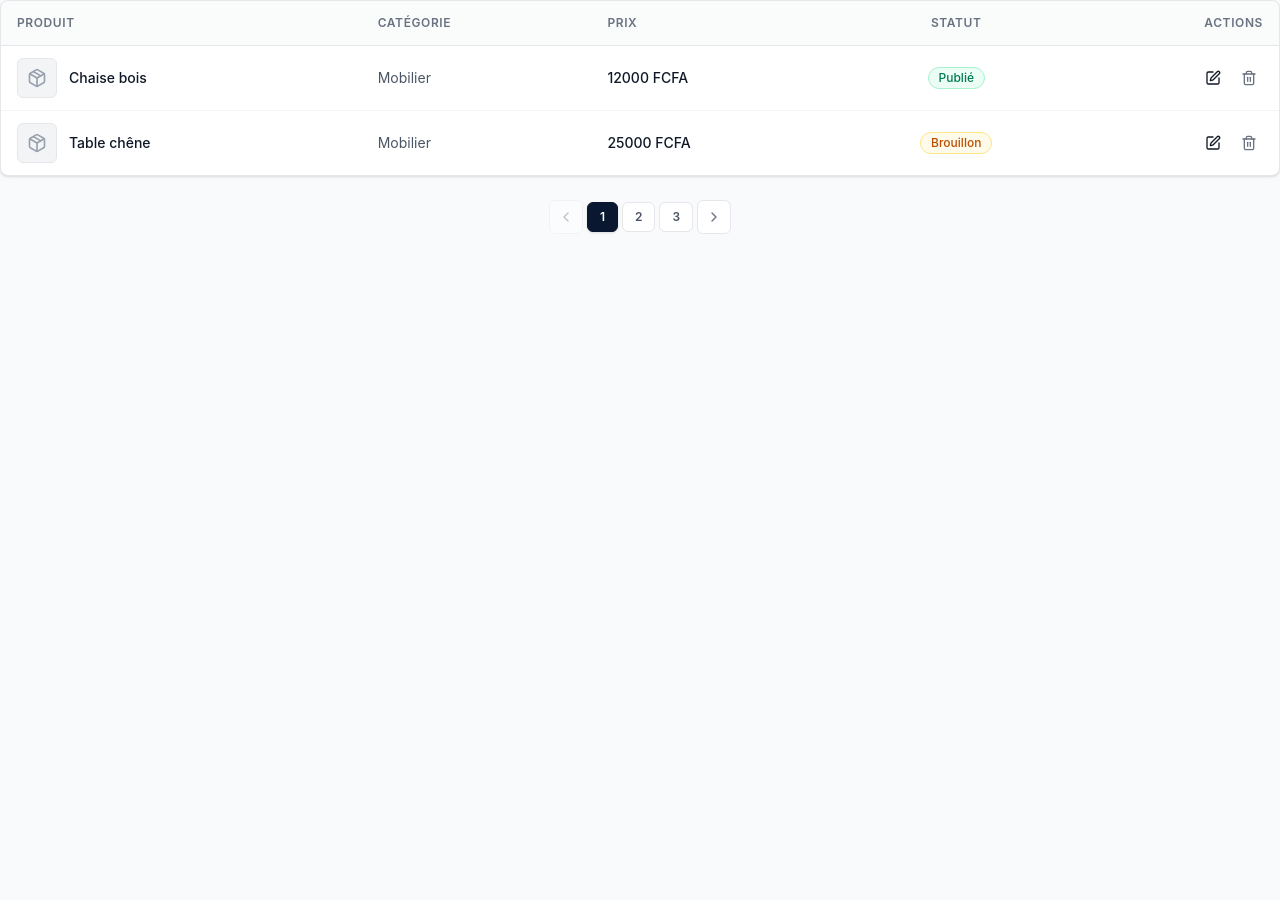
Test: AdminProductTable — suppression › ouvre la modale au clic sur la corbeille
Click the button named "supprimer chaise bois". click: (1249, 78)
box: [1235,64,1263,92]
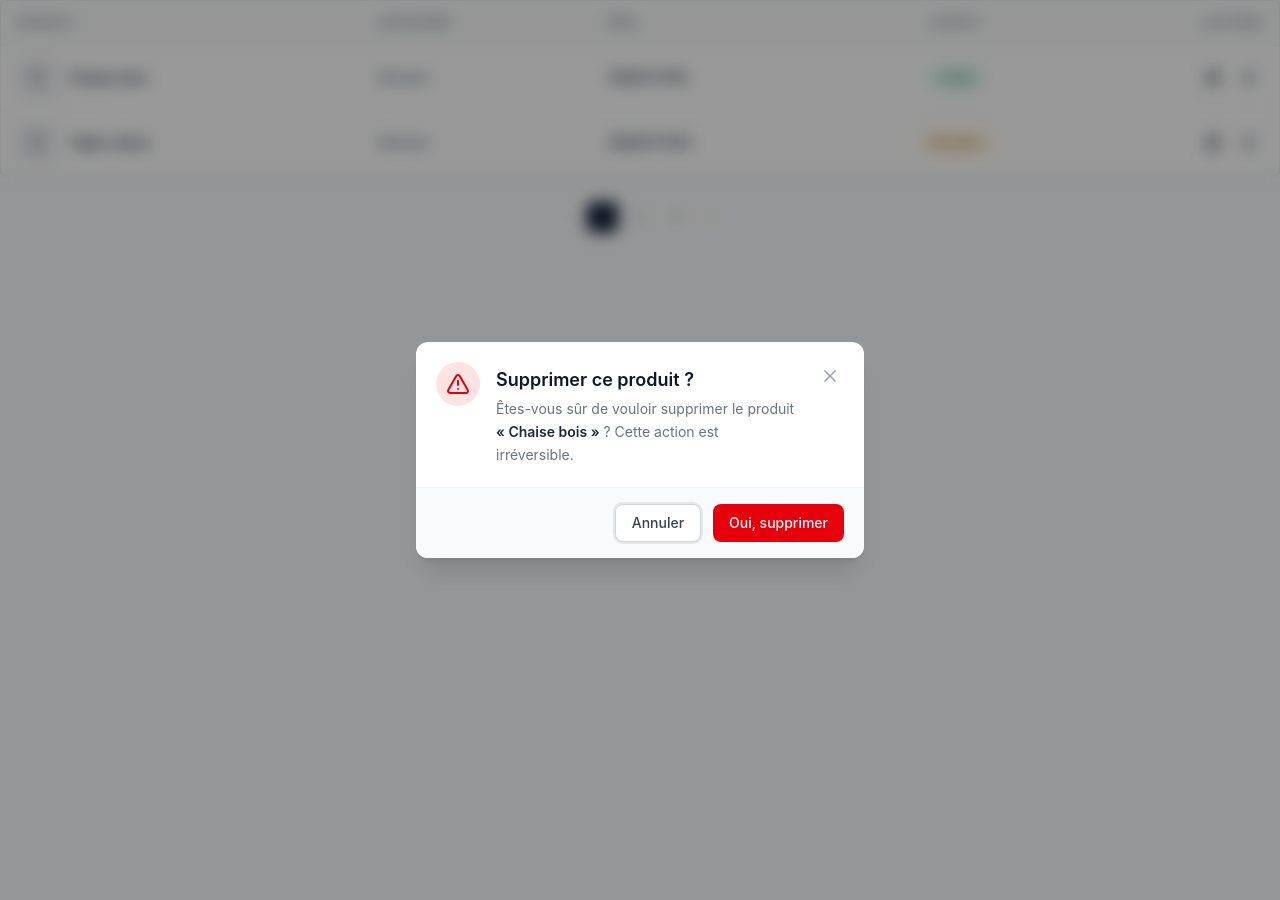
Expected: the dialog is shown, [416,342,864,558]
Expected: the heading "Supprimer ce produit ?" is shown, [496,369,694,390]
Expected: the text "« Chaise bois »" is shown, [496,423,600,440]
